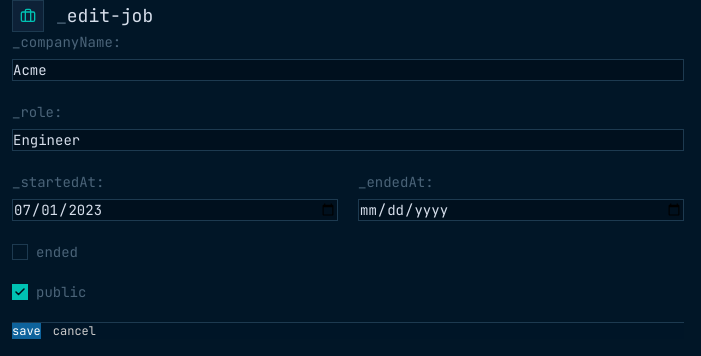
admin job form › edit › shows an error when the update fails
Click the button "save": click(26, 331) [12,323,41,339]
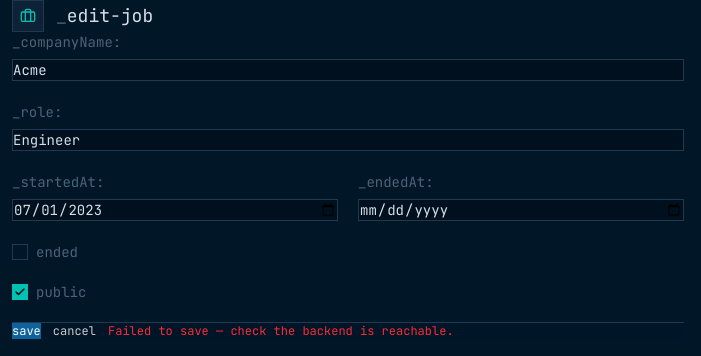
expect the text "Failed to save — check the backend is reachable." is shown: met, box [108,323,454,339]
